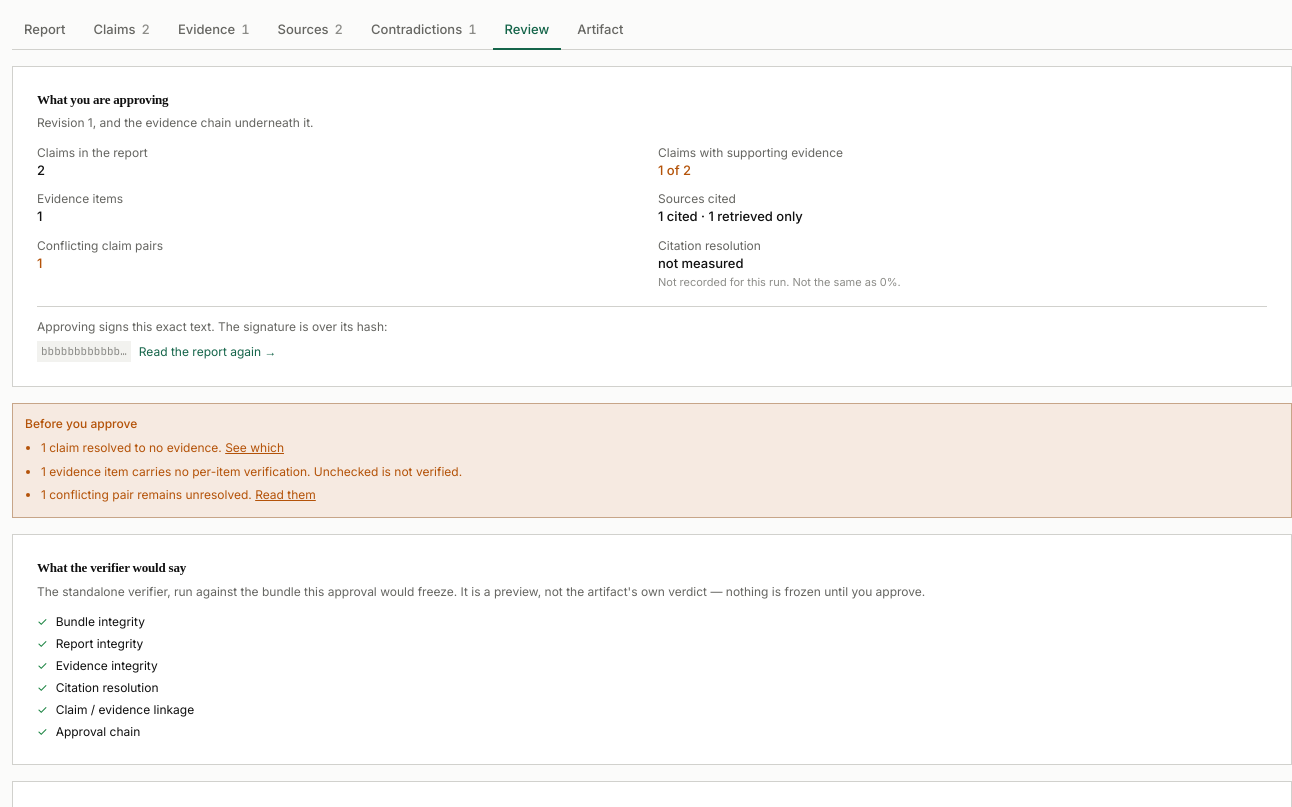
it: RunWorkspace › shows a conflicting pair with both quotations and refuses to resolve it
The width and height of the screenshot is (1292, 807).
What coordinates should you click on to do the following:
click the tab "Contradictions1"
I would click on:
 (424, 31)
Its box is [359,12,489,50].
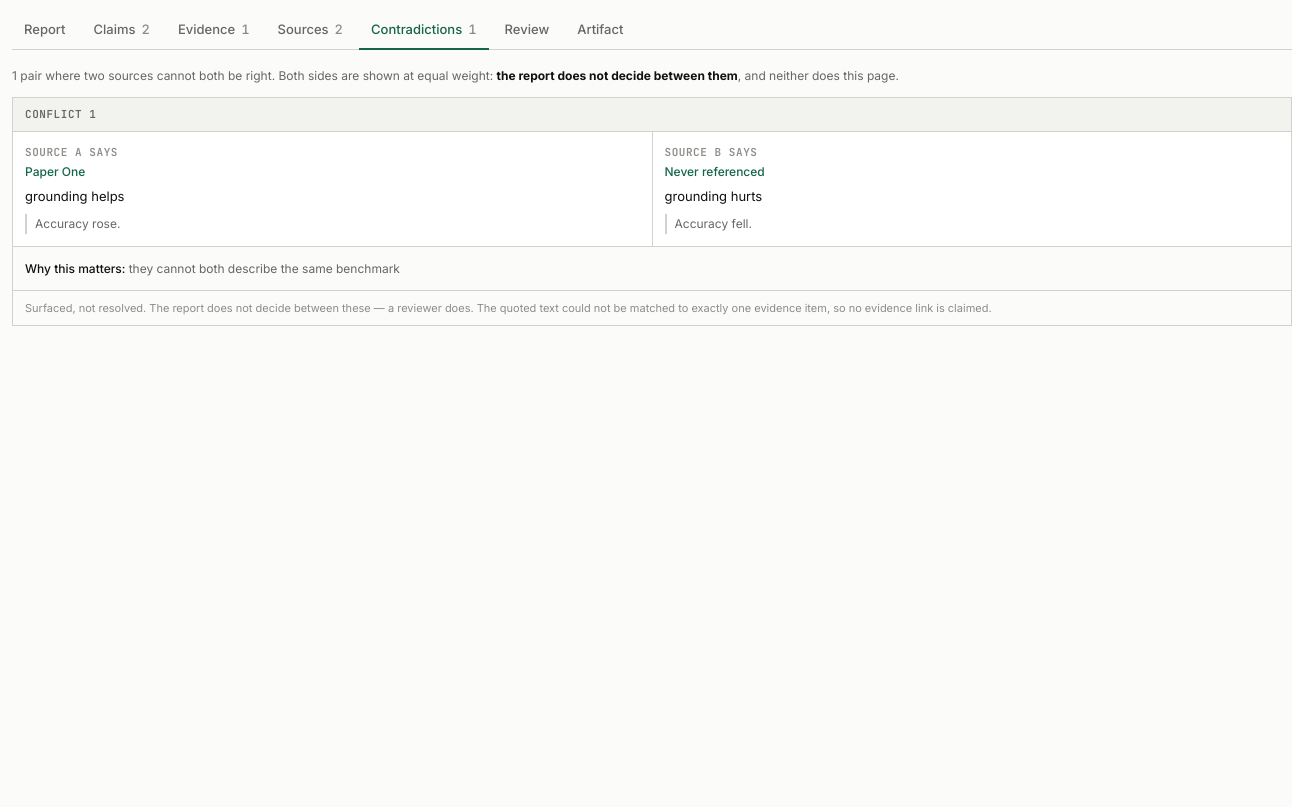
Check: the text "Accuracy rose." is shown, box [25,214,640,234]
Check: the text "Accuracy fell." is shown, box [664,214,1279,234]
Check: the text "Surfaced, not resolved" is shown, box [25,301,474,315]
